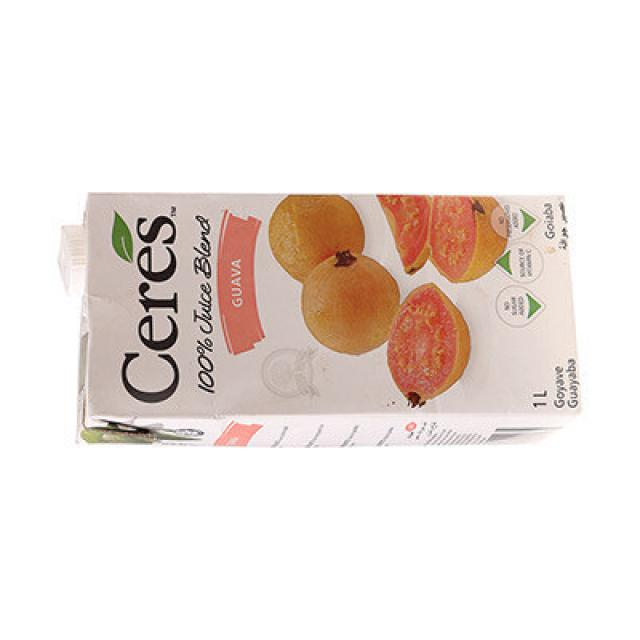non_white_jug: (56, 188, 585, 451)
